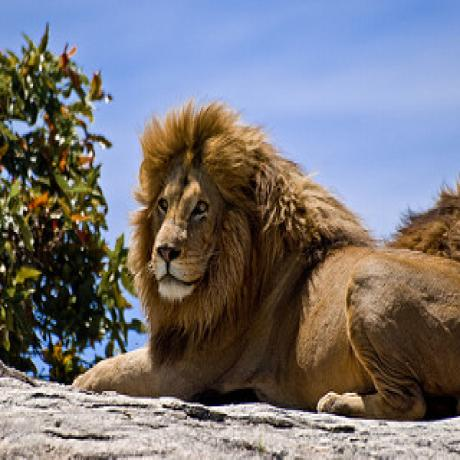Lion: (75, 99, 460, 423)
